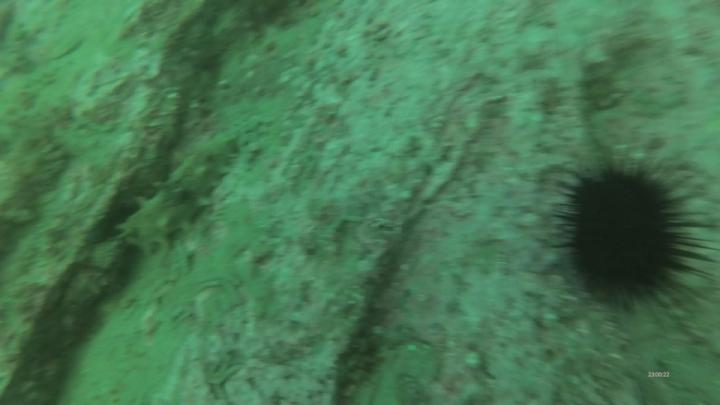echinus: (570, 171, 681, 301)
holothurian: (117, 133, 239, 254)
